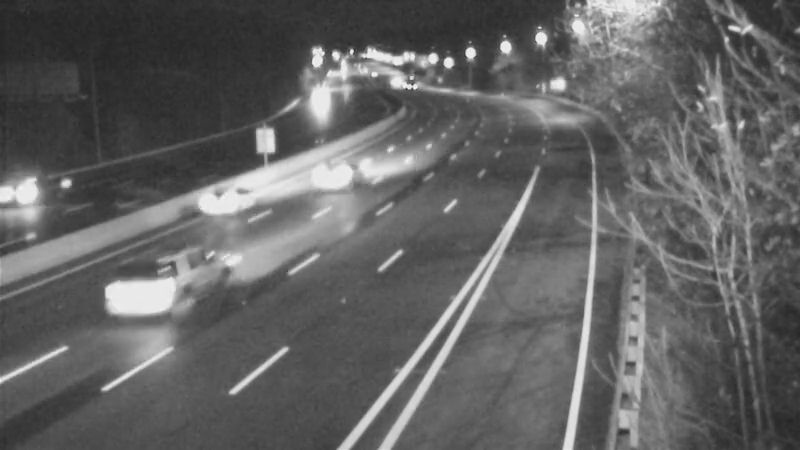vehicle: (291, 137, 371, 217), (180, 163, 260, 243), (98, 255, 178, 335), (1, 149, 76, 229), (365, 54, 415, 104), (383, 56, 433, 106), (292, 75, 342, 125)
